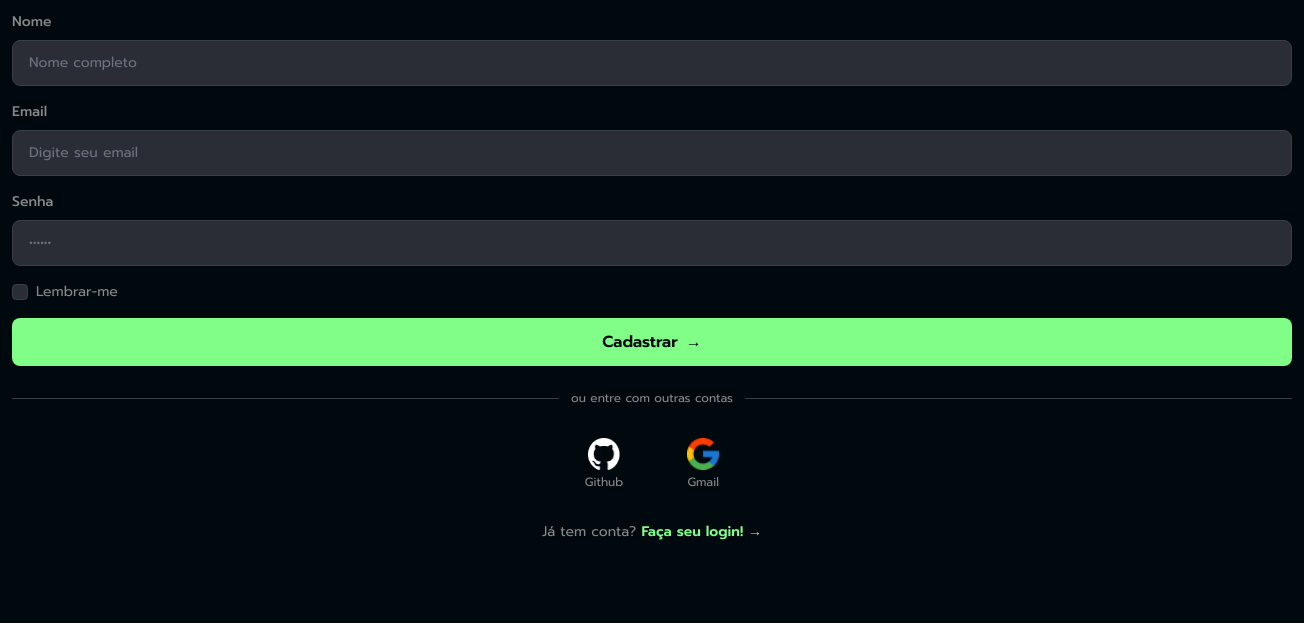
RegisterForm › shows validation errors on empty submit
Click the button "Cadastrar →". click: (652, 342)
box: [12,318,1292,366]
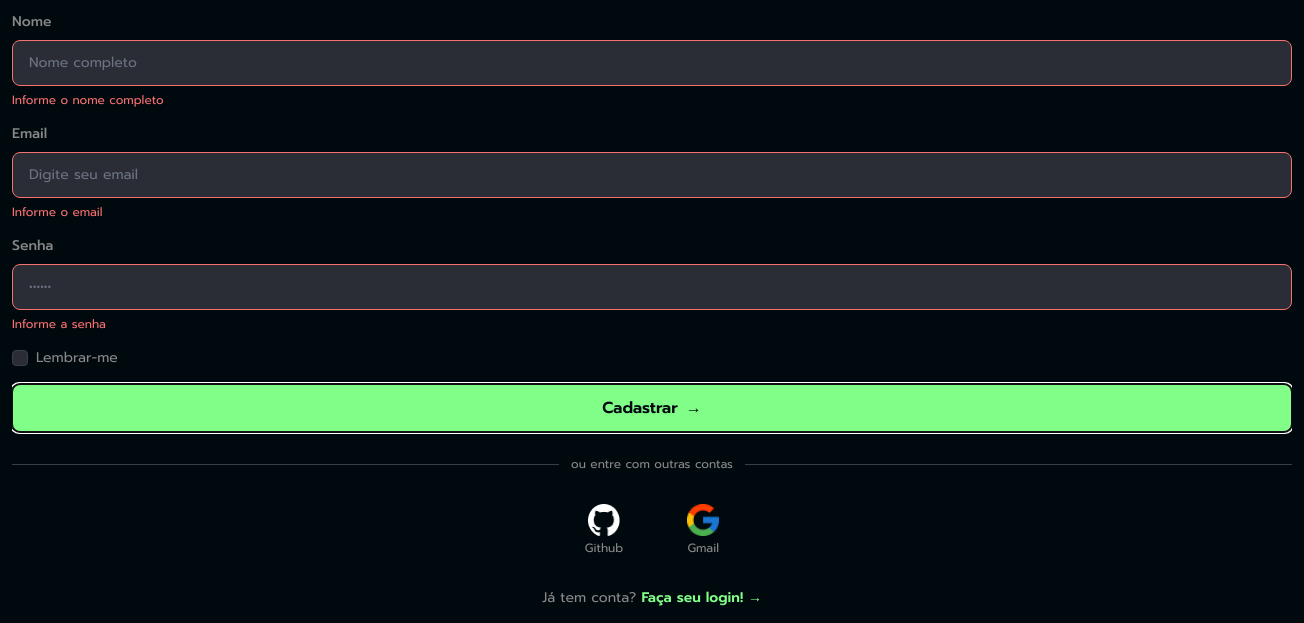
Expected: the number of messages is 3, [12,91,164,109]; [12,203,103,221]; [12,315,106,333]
Expected: the text "Informe o nome completo" is shown, [12,91,164,109]
Expected: the text "Informe o email" is shown, [12,203,103,221]
